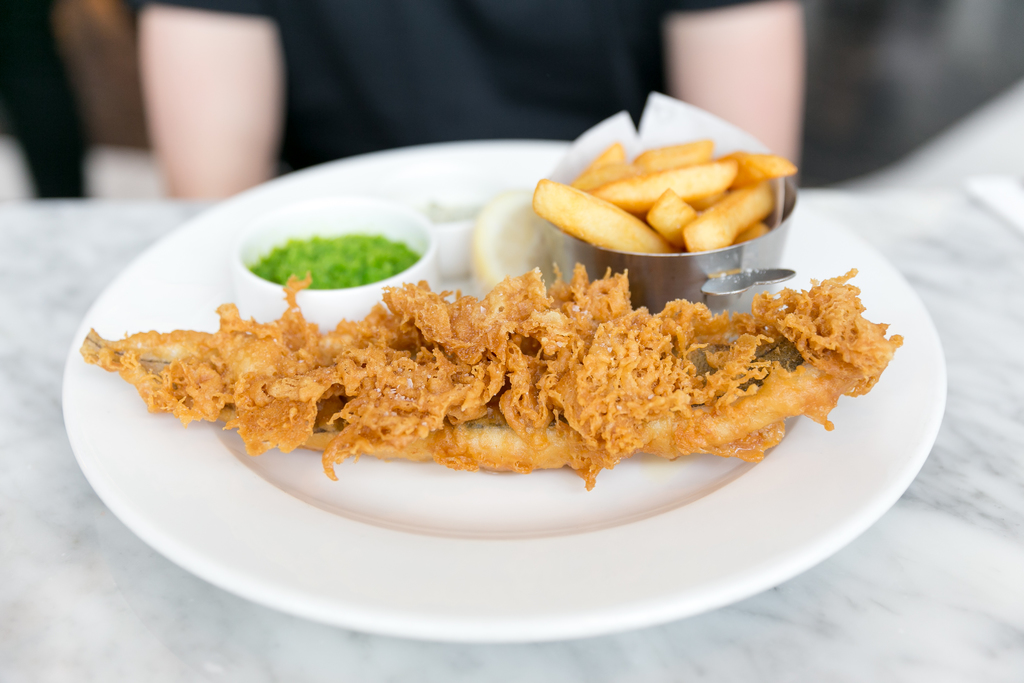French fries: (524, 124, 805, 254)
